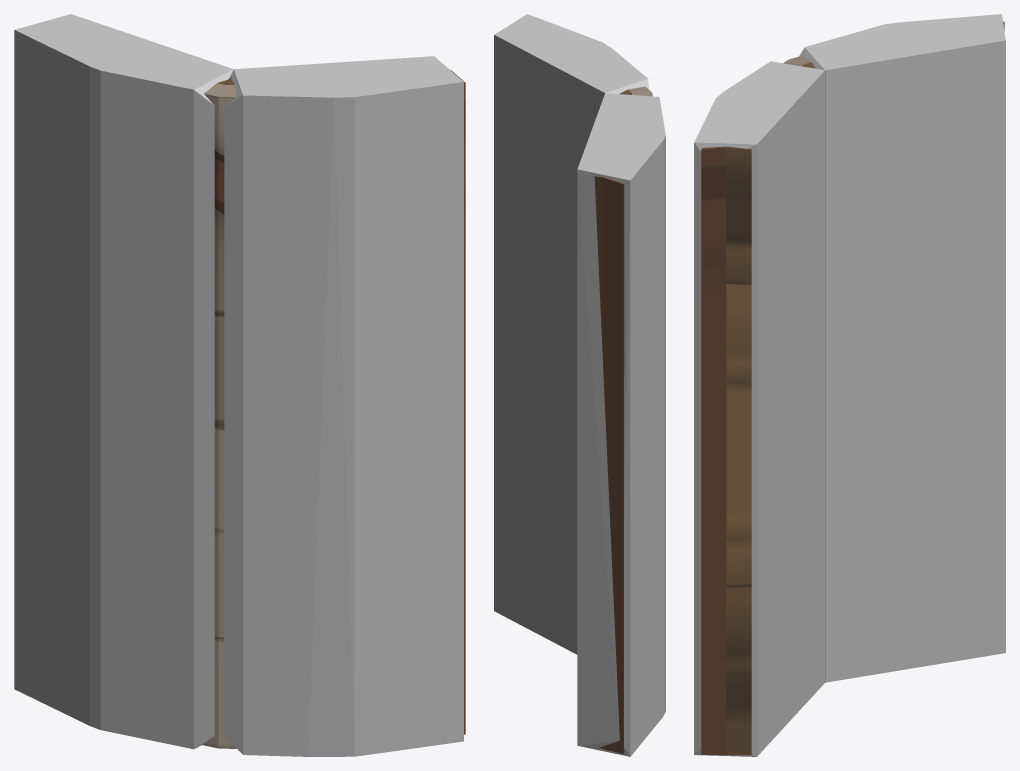
Rendered from SM_Bld_Wall_Curved_Small_01.fbx.
3 renders of one model, left to right at view 1: azimuth 30°, elevation 25°; view 2: azimuth 150°, elevation 25°; view 3: azimuth 270°, elevation 25°, orthographic. The views are drawn at different scales.
Parts seen in each view (by area): view 1: SM_Bld_Wall_Curved_Small_01_ConvexHulls, SM_Bld_Wall_Curved_Small_01; view 2: SM_Bld_Wall_Curved_Small_01_ConvexHulls, SM_Bld_Wall_Curved_Small_01; view 3: SM_Bld_Wall_Curved_Small_01_ConvexHulls, SM_Bld_Wall_Curved_Small_01.
Part boxes in pixels (x1,y1,x2,y2): SM_Bld_Wall_Curved_Small_01_ConvexHulls: (14, 14, 463, 756); SM_Bld_Wall_Curved_Small_01: (202, 70, 465, 748); SM_Bld_Wall_Curved_Small_01_ConvexHulls: (494, 14, 665, 756); SM_Bld_Wall_Curved_Small_01: (594, 86, 652, 753); SM_Bld_Wall_Curved_Small_01_ConvexHulls: (694, 14, 1005, 756); SM_Bld_Wall_Curved_Small_01: (701, 21, 1004, 754).
Size of the model in its own units: 139 by 140 by 304.
Materials: 3 (2 with a texture image).
